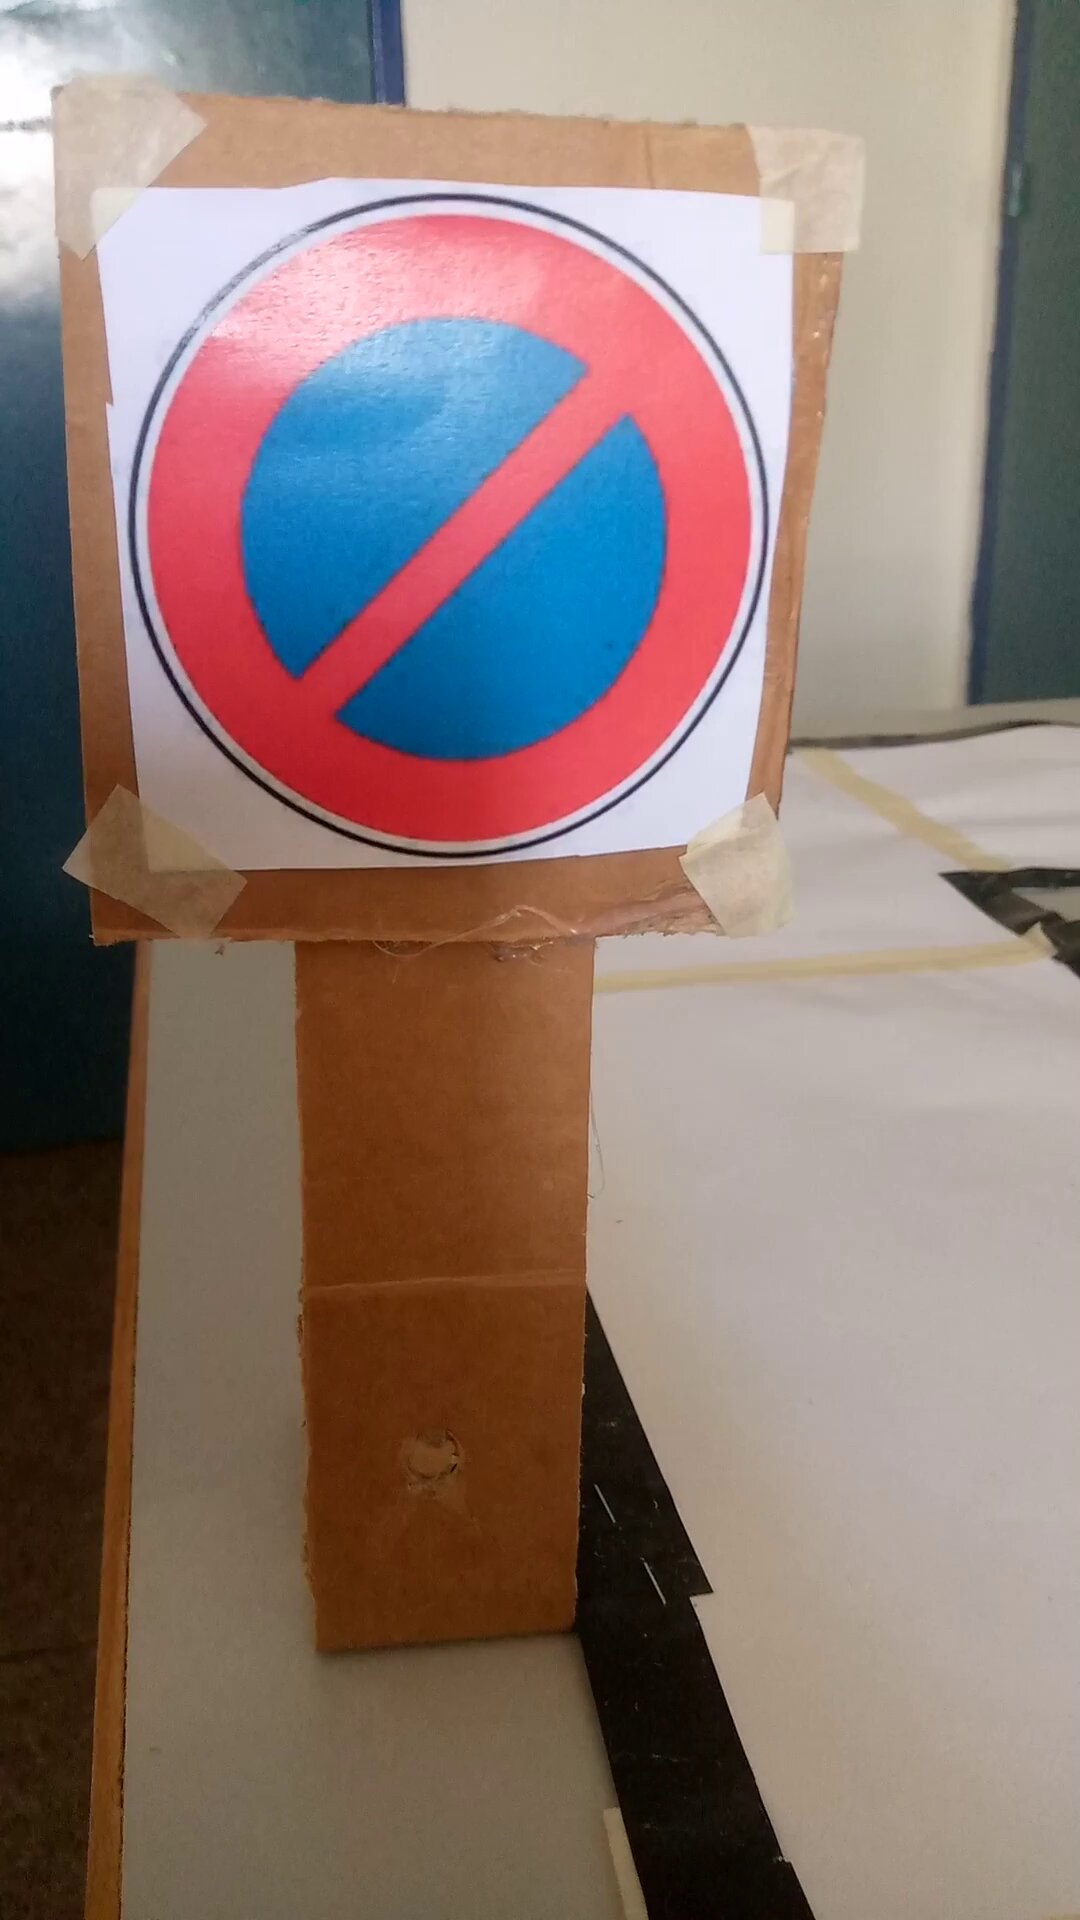panel110: (87, 179, 773, 866)
